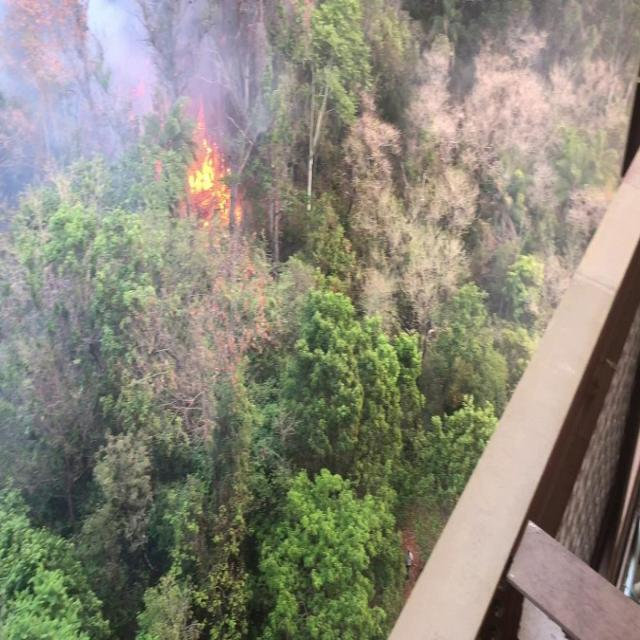Fire: (182, 115, 240, 213)
